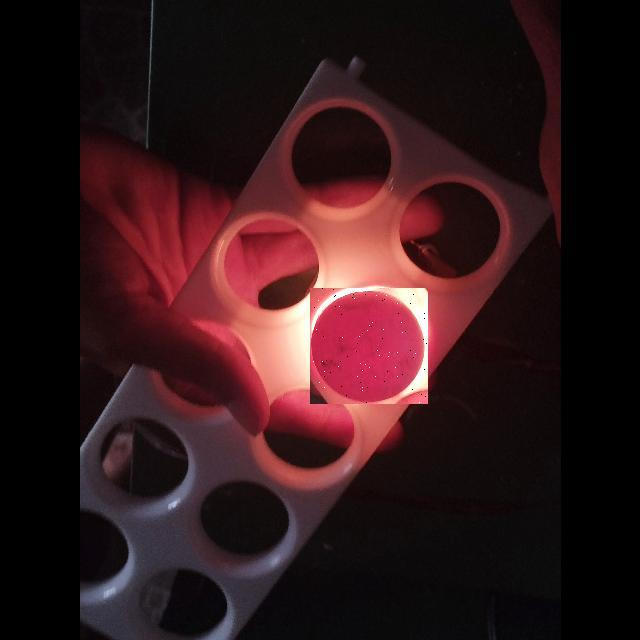Infertile: (310, 288, 428, 404)
